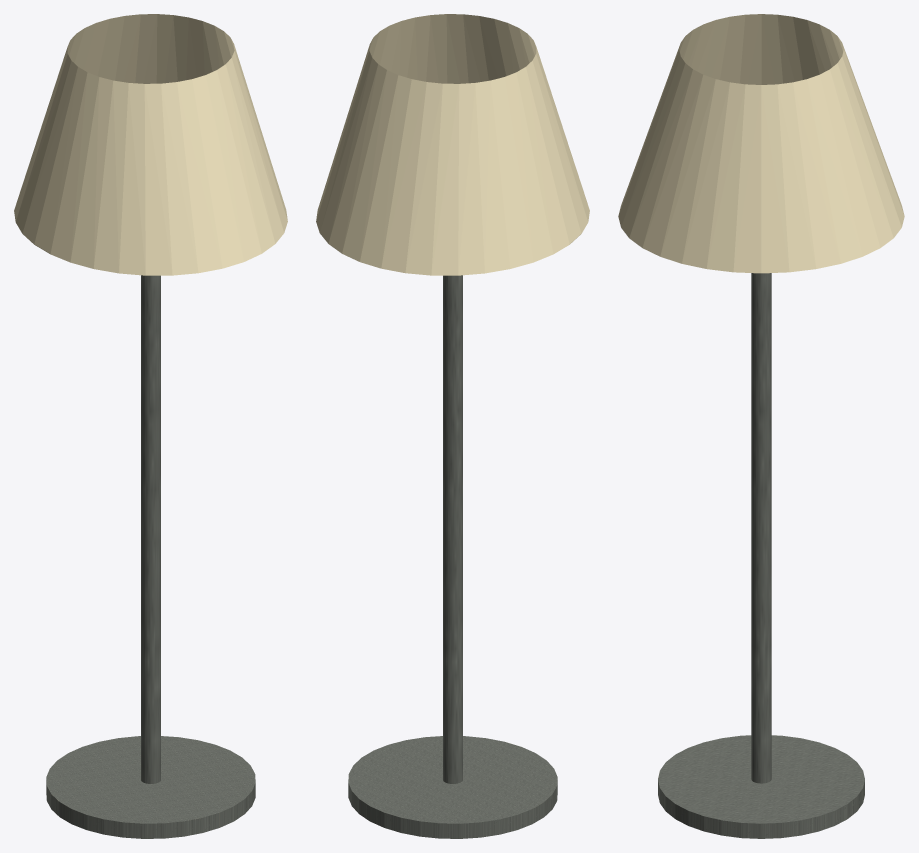
Rendered from lamp.obj.
3 renders of one model, left to right at view 1: azimuth 30°, elevation 25°; view 2: azimuth 150°, elevation 25°; view 3: azimuth 270°, elevation 25°, orthographic.
Visible parts, largest first — view 1: Cylinder; view 2: Cylinder; view 3: Cylinder.
Boxes of the visible parts, x1,y1,x2,y2 form: Cylinder: [14, 14, 287, 838]; Cylinder: [316, 14, 589, 838]; Cylinder: [618, 14, 904, 838].
Bounding box in the file's own units: 2 × 6.1 × 2.13.
Materials: 1 (1 with a texture image).
